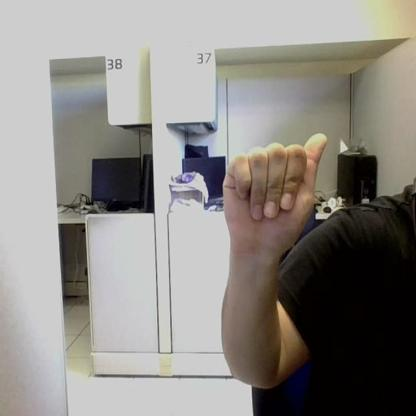A: (223, 133, 327, 250)
